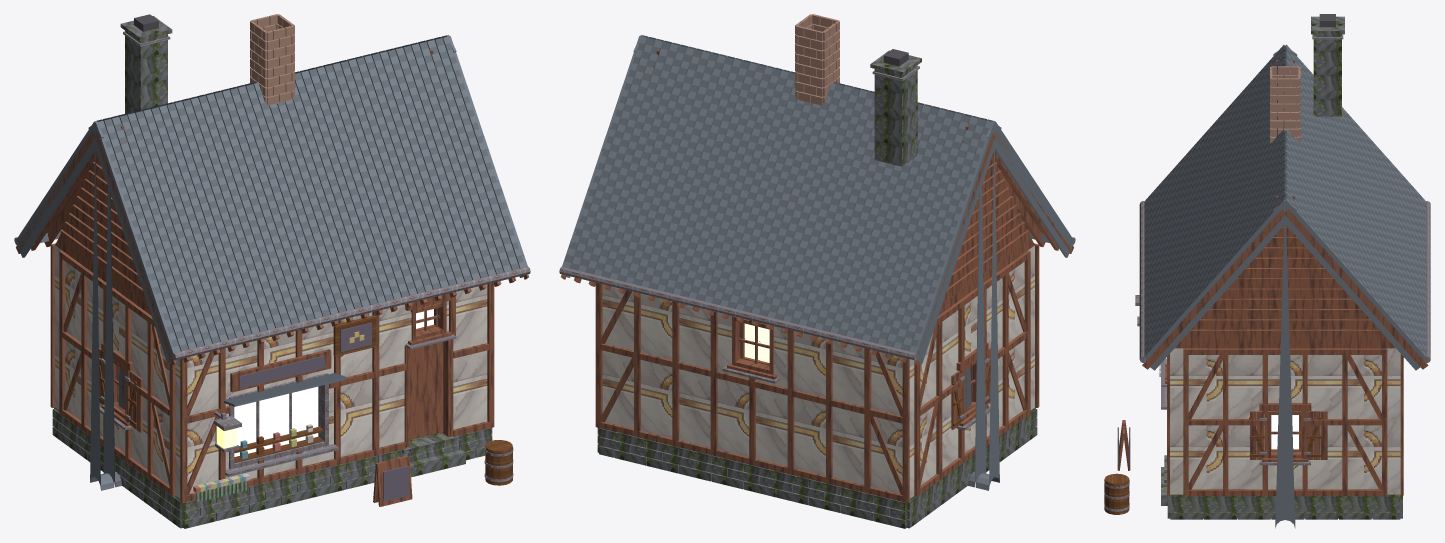
File: juvelerare.glb
The picture shows the model from 3 angles, left to right: view 1: azimuth 30°, elevation 25°; view 2: azimuth 150°, elevation 25°; view 3: azimuth 270°, elevation 25°; orthographic projection. The views are drawn at different scales.
Parts seen in each view (by area): view 1: juvelerare_takpanna_ljus, juvelerare_takpanna_mörk, juvelerare_mörkt_virke, juvelerare_puts, juvelerare_sockel, juvelerare_järn, juvelerare_tegel, juvelerare_fönster, juvelerare_ljust_virke, juvelerare_mur, juvelerare_skyltfält, juvelerare_sten; view 2: juvelerare_takpanna_ljus, juvelerare_takpanna_mörk, juvelerare_puts, juvelerare_mörkt_virke, juvelerare_sockel, juvelerare_mur, juvelerare_järn, juvelerare_tegel, juvelerare_fönster; view 3: juvelerare_takpanna_ljus, juvelerare_mörkt_virke, juvelerare_takpanna_mörk, juvelerare_puts, juvelerare_sockel, juvelerare_järn, juvelerare_mur, juvelerare_tegel, juvelerare_ljust_virke, juvelerare_sten, juvelerare_fönster.
Boxes of the visible parts, bbox=[...] form: juvelerare_takpanna_ljus: bbox=[17, 35, 527, 490]; juvelerare_takpanna_mörk: bbox=[18, 37, 524, 487]; juvelerare_mörkt_virke: bbox=[16, 50, 528, 506]; juvelerare_puts: bbox=[55, 245, 487, 498]; juvelerare_sockel: bbox=[52, 407, 492, 528]; juvelerare_järn: bbox=[14, 31, 530, 482]; juvelerare_tegel: bbox=[250, 14, 294, 105]; juvelerare_fönster: bbox=[234, 309, 433, 456]; juvelerare_ljust_virke: bbox=[99, 315, 512, 485]; juvelerare_mur: bbox=[125, 30, 167, 113]; juvelerare_skyltfält: bbox=[239, 322, 408, 501]; juvelerare_sten: bbox=[120, 16, 465, 477]; juvelerare_takpanna_ljus: bbox=[562, 35, 1074, 490]; juvelerare_takpanna_mörk: bbox=[564, 37, 1071, 487]; juvelerare_puts: bbox=[602, 245, 1034, 498]; juvelerare_mörkt_virke: bbox=[561, 50, 1073, 502]; juvelerare_sockel: bbox=[597, 407, 1037, 528]; juvelerare_mur: bbox=[874, 65, 917, 166]; juvelerare_järn: bbox=[559, 66, 1075, 430]; juvelerare_tegel: bbox=[795, 14, 839, 105]; juvelerare_fönster: bbox=[744, 323, 769, 362]; juvelerare_takpanna_ljus: bbox=[1142, 44, 1428, 528]; juvelerare_mörkt_virke: bbox=[1117, 60, 1428, 495]; juvelerare_takpanna_mörk: bbox=[1144, 48, 1425, 520]; juvelerare_puts: bbox=[1159, 348, 1400, 494]; juvelerare_sockel: bbox=[1167, 494, 1402, 519]; juvelerare_järn: bbox=[1104, 34, 1430, 511]; juvelerare_mur: bbox=[1313, 34, 1341, 116]; juvelerare_tegel: bbox=[1270, 66, 1300, 143]; juvelerare_ljust_virke: bbox=[1104, 417, 1321, 514]; juvelerare_sten: bbox=[1161, 16, 1344, 505]; juvelerare_fönster: bbox=[1271, 415, 1298, 449].
Size of the model in its own units: 10.4 by 12.1 by 9.21.
Materials: 18 (11 with a texture image).
